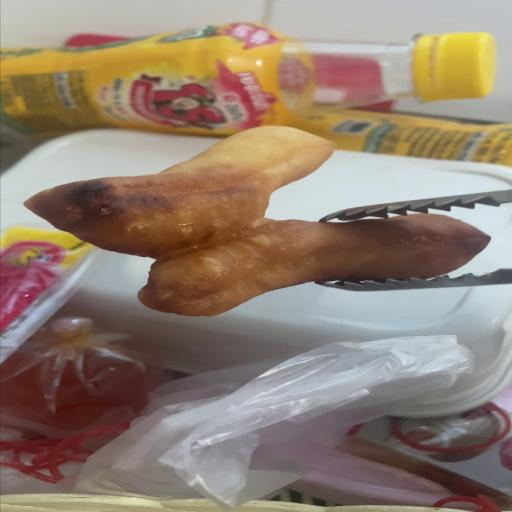street_burnt_good: (26, 124, 491, 316)
